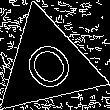O_SE: (15, 31, 80, 98)
